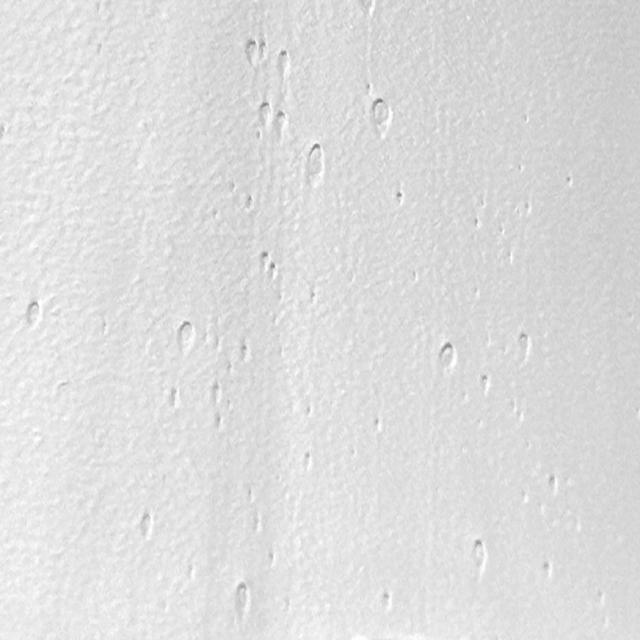pin holes: (231, 581, 253, 623), (20, 298, 46, 332), (370, 98, 394, 132), (305, 146, 327, 183), (468, 537, 489, 573), (514, 330, 536, 362), (437, 342, 458, 374), (136, 510, 157, 542), (176, 320, 197, 351), (242, 37, 262, 66), (255, 101, 273, 127), (477, 372, 494, 398), (277, 52, 293, 78), (166, 388, 183, 412), (545, 473, 563, 495), (273, 111, 288, 137), (239, 340, 255, 364), (539, 561, 556, 583), (378, 588, 394, 610), (360, 0, 378, 19), (211, 382, 224, 406), (259, 251, 274, 271), (0, 122, 13, 145), (258, 41, 271, 62), (302, 450, 316, 469), (252, 515, 265, 535), (214, 413, 227, 432), (266, 549, 279, 568), (395, 191, 408, 209), (521, 200, 534, 217), (245, 484, 256, 504), (268, 262, 280, 280), (371, 415, 384, 431), (244, 193, 256, 210), (472, 218, 485, 233), (514, 161, 526, 177), (519, 490, 530, 507), (520, 113, 532, 128), (226, 362, 237, 378), (212, 206, 223, 222), (565, 174, 577, 188), (364, 82, 375, 96), (477, 196, 488, 210), (228, 182, 238, 197), (304, 400, 313, 416), (498, 224, 508, 238), (310, 289, 317, 306)
